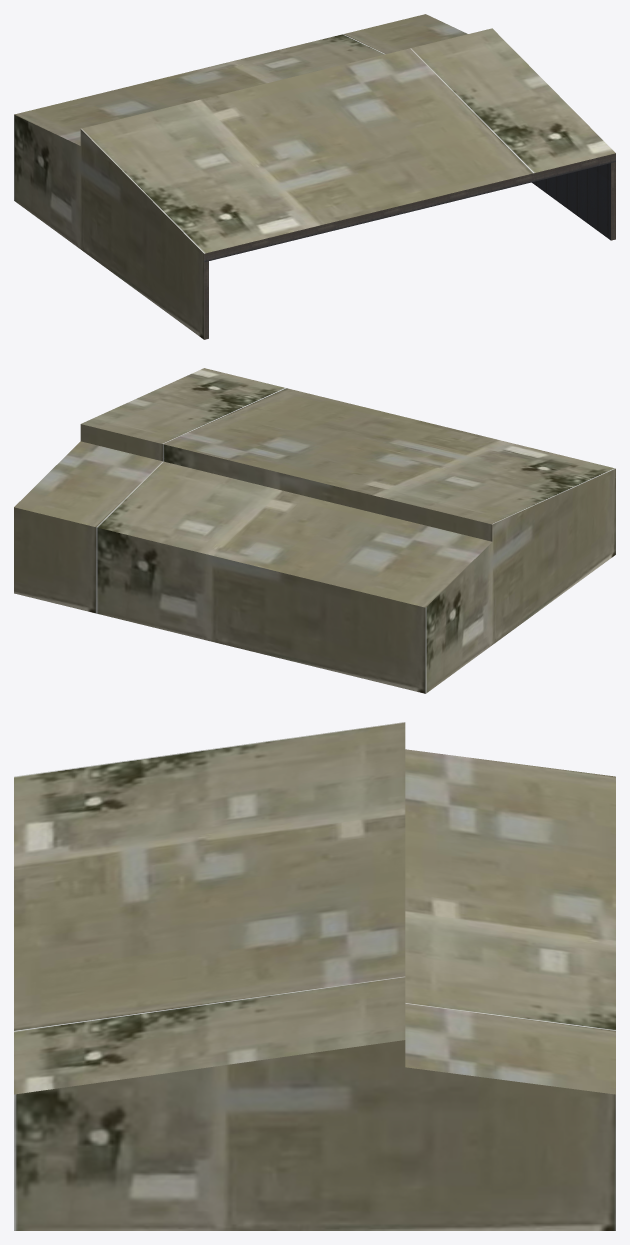
Rendered from Maintanence Hangar2.gltf.
3 views of the same model, one above another, from view 1: azimuth 30°, elevation 25°; view 2: azimuth 150°, elevation 25°; view 3: azimuth 270°, elevation 25° (orthographic). The views are drawn at different scales.
Visible parts, largest first — view 1: node1, node4, node3, node2; view 2: node1; view 3: node1.
Boxes of the visible parts, bbox=[...] form: node1: bbox=[14, 14, 615, 339]; node4: bbox=[204, 153, 615, 262]; node3: bbox=[532, 163, 610, 240]; node2: bbox=[204, 162, 615, 339]; node1: bbox=[14, 368, 615, 693]; node1: bbox=[14, 722, 615, 1230].
Size of the model in its own units: 25 by 7 by 20.
